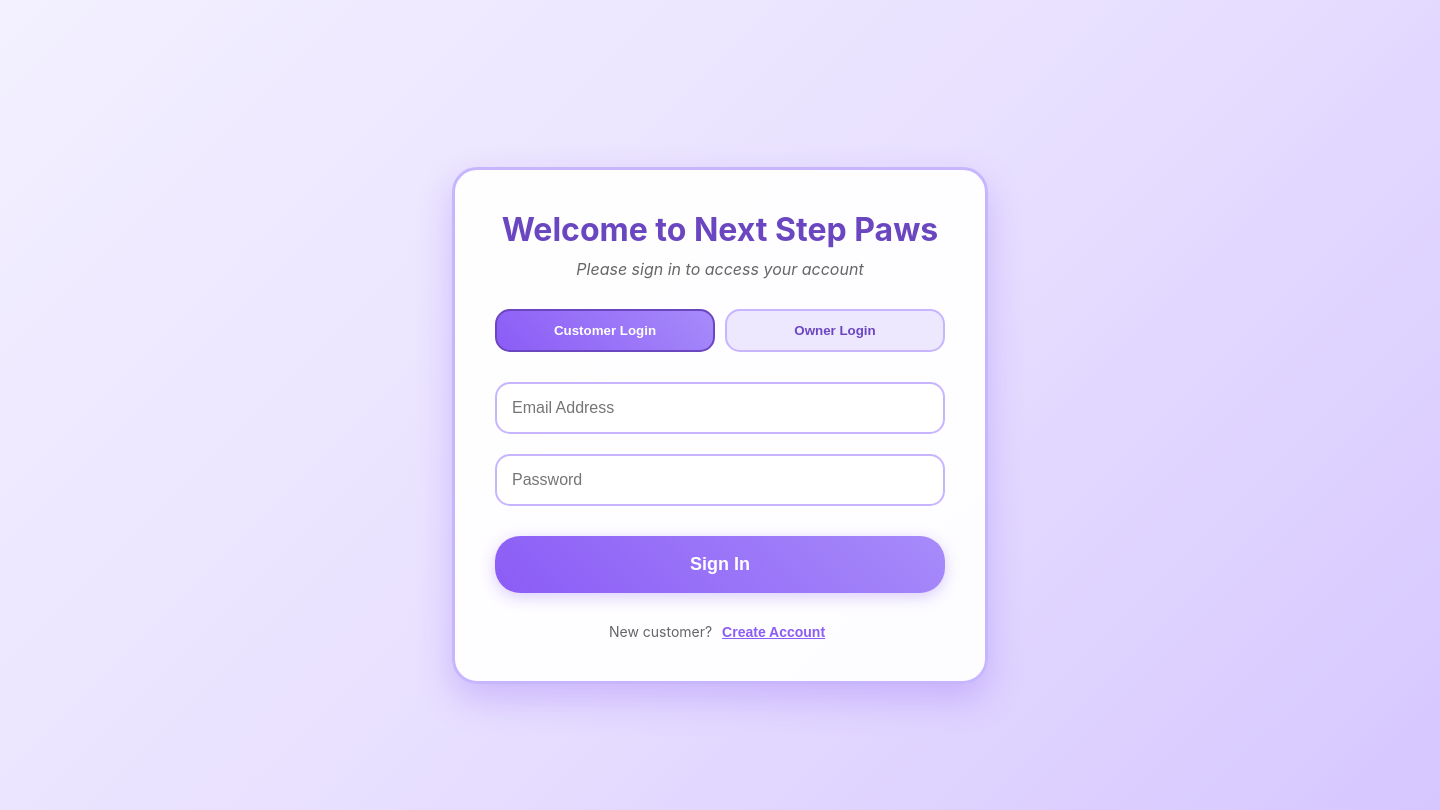
Scenario: Login Component › shows signup form when "Create Account" is clicked
Click the button "Create Account" at (774, 632), box [716,622,831,640]
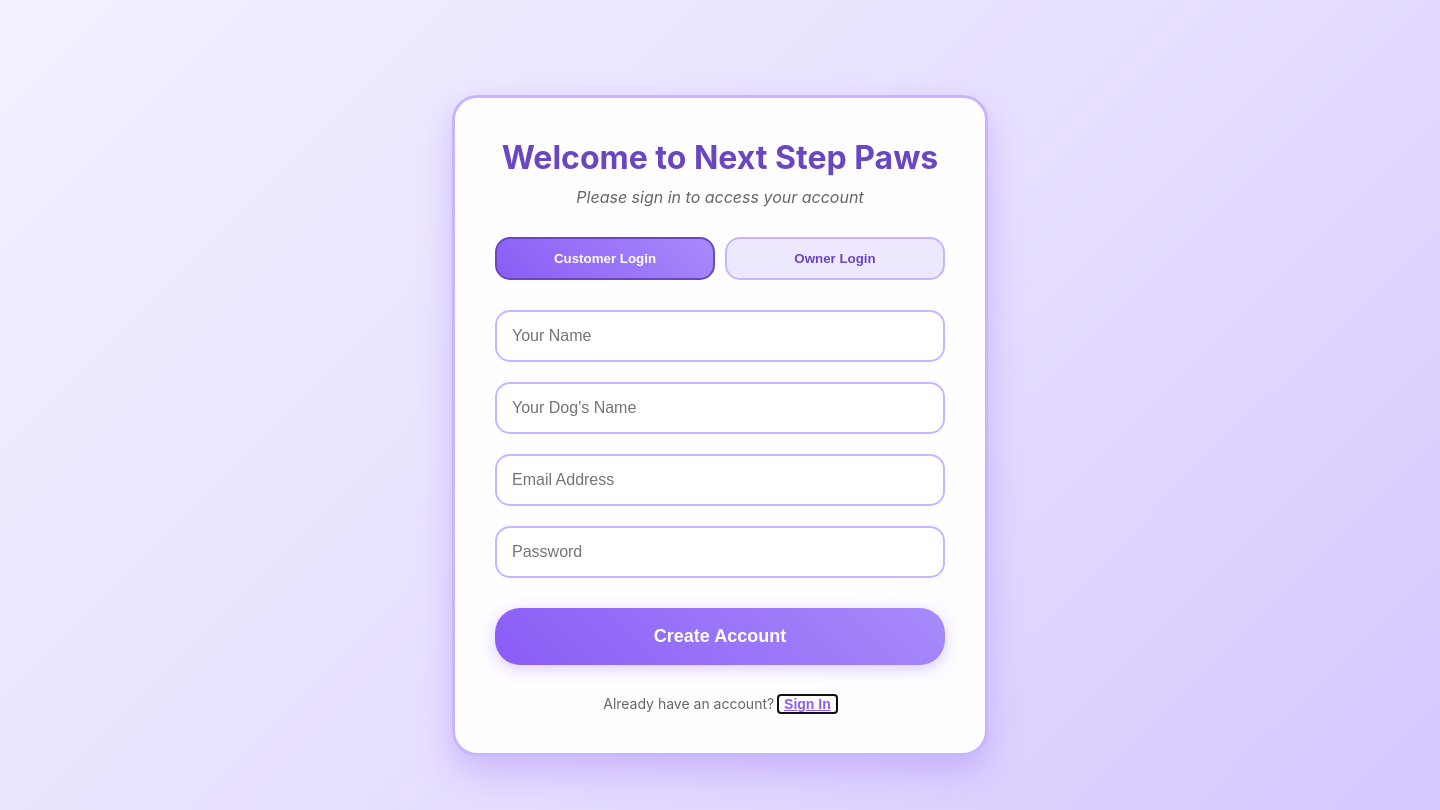
Expected: the field with placeholder "Your Name" is shown, [495,310,945,362]
Expected: the field with placeholder "Your Dog's Name" is shown, [495,382,945,434]
